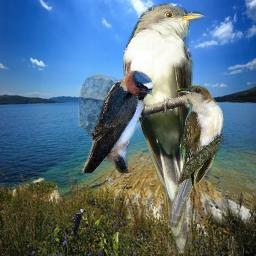Cuckoo: (123, 2, 205, 256), (167, 85, 225, 229)
Swallow: (78, 69, 153, 173)
Woodpecker: (67, 208, 87, 238)
